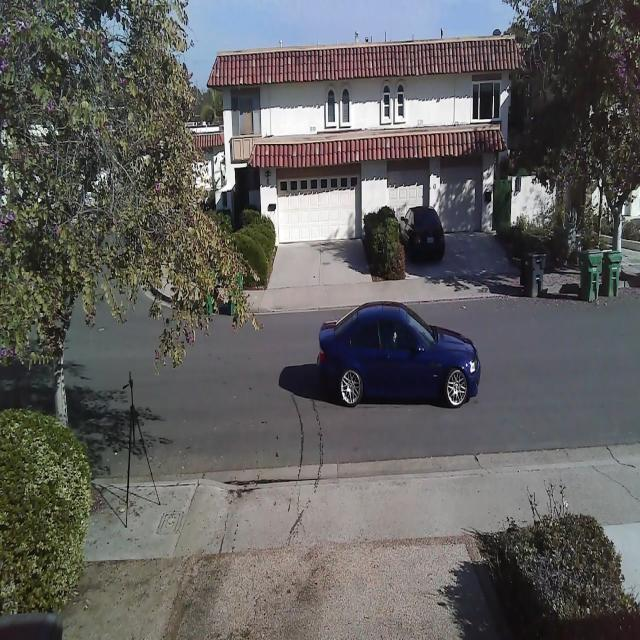Carbeetle: (307, 299, 485, 417)
Civilian: (397, 206, 445, 264)
